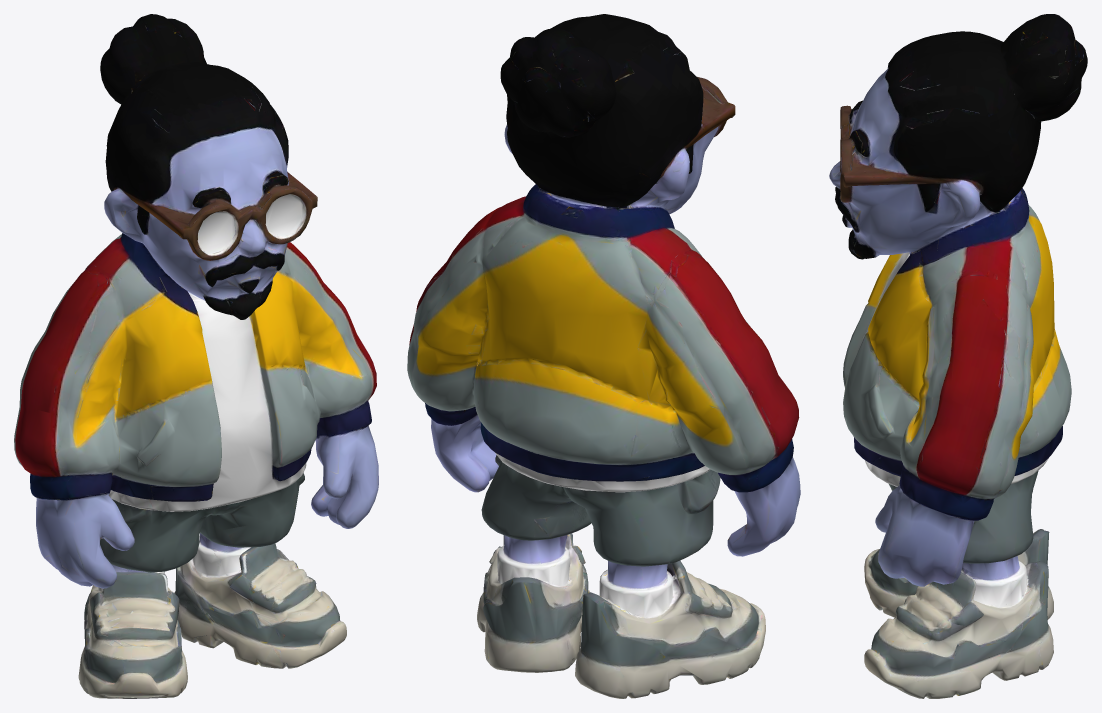
Rendered from b_blue.glb.
3 renders of one model, left to right at view 1: azimuth 30°, elevation 25°; view 2: azimuth 150°, elevation 25°; view 3: azimuth 270°, elevation 25°, orthographic. The views are drawn at different scales.
Visible parts, largest first — view 1: Mesh_0; view 2: Mesh_0; view 3: Mesh_0.
Part boxes in pixels (x1,y1,x2,y2): Mesh_0: (14,14,378,698); Mesh_0: (407,14,800,698); Mesh_0: (829,14,1087,698).
Size of the model in its own units: 1.14 by 1.91 by 0.7182.
1 material, 1 textured.
